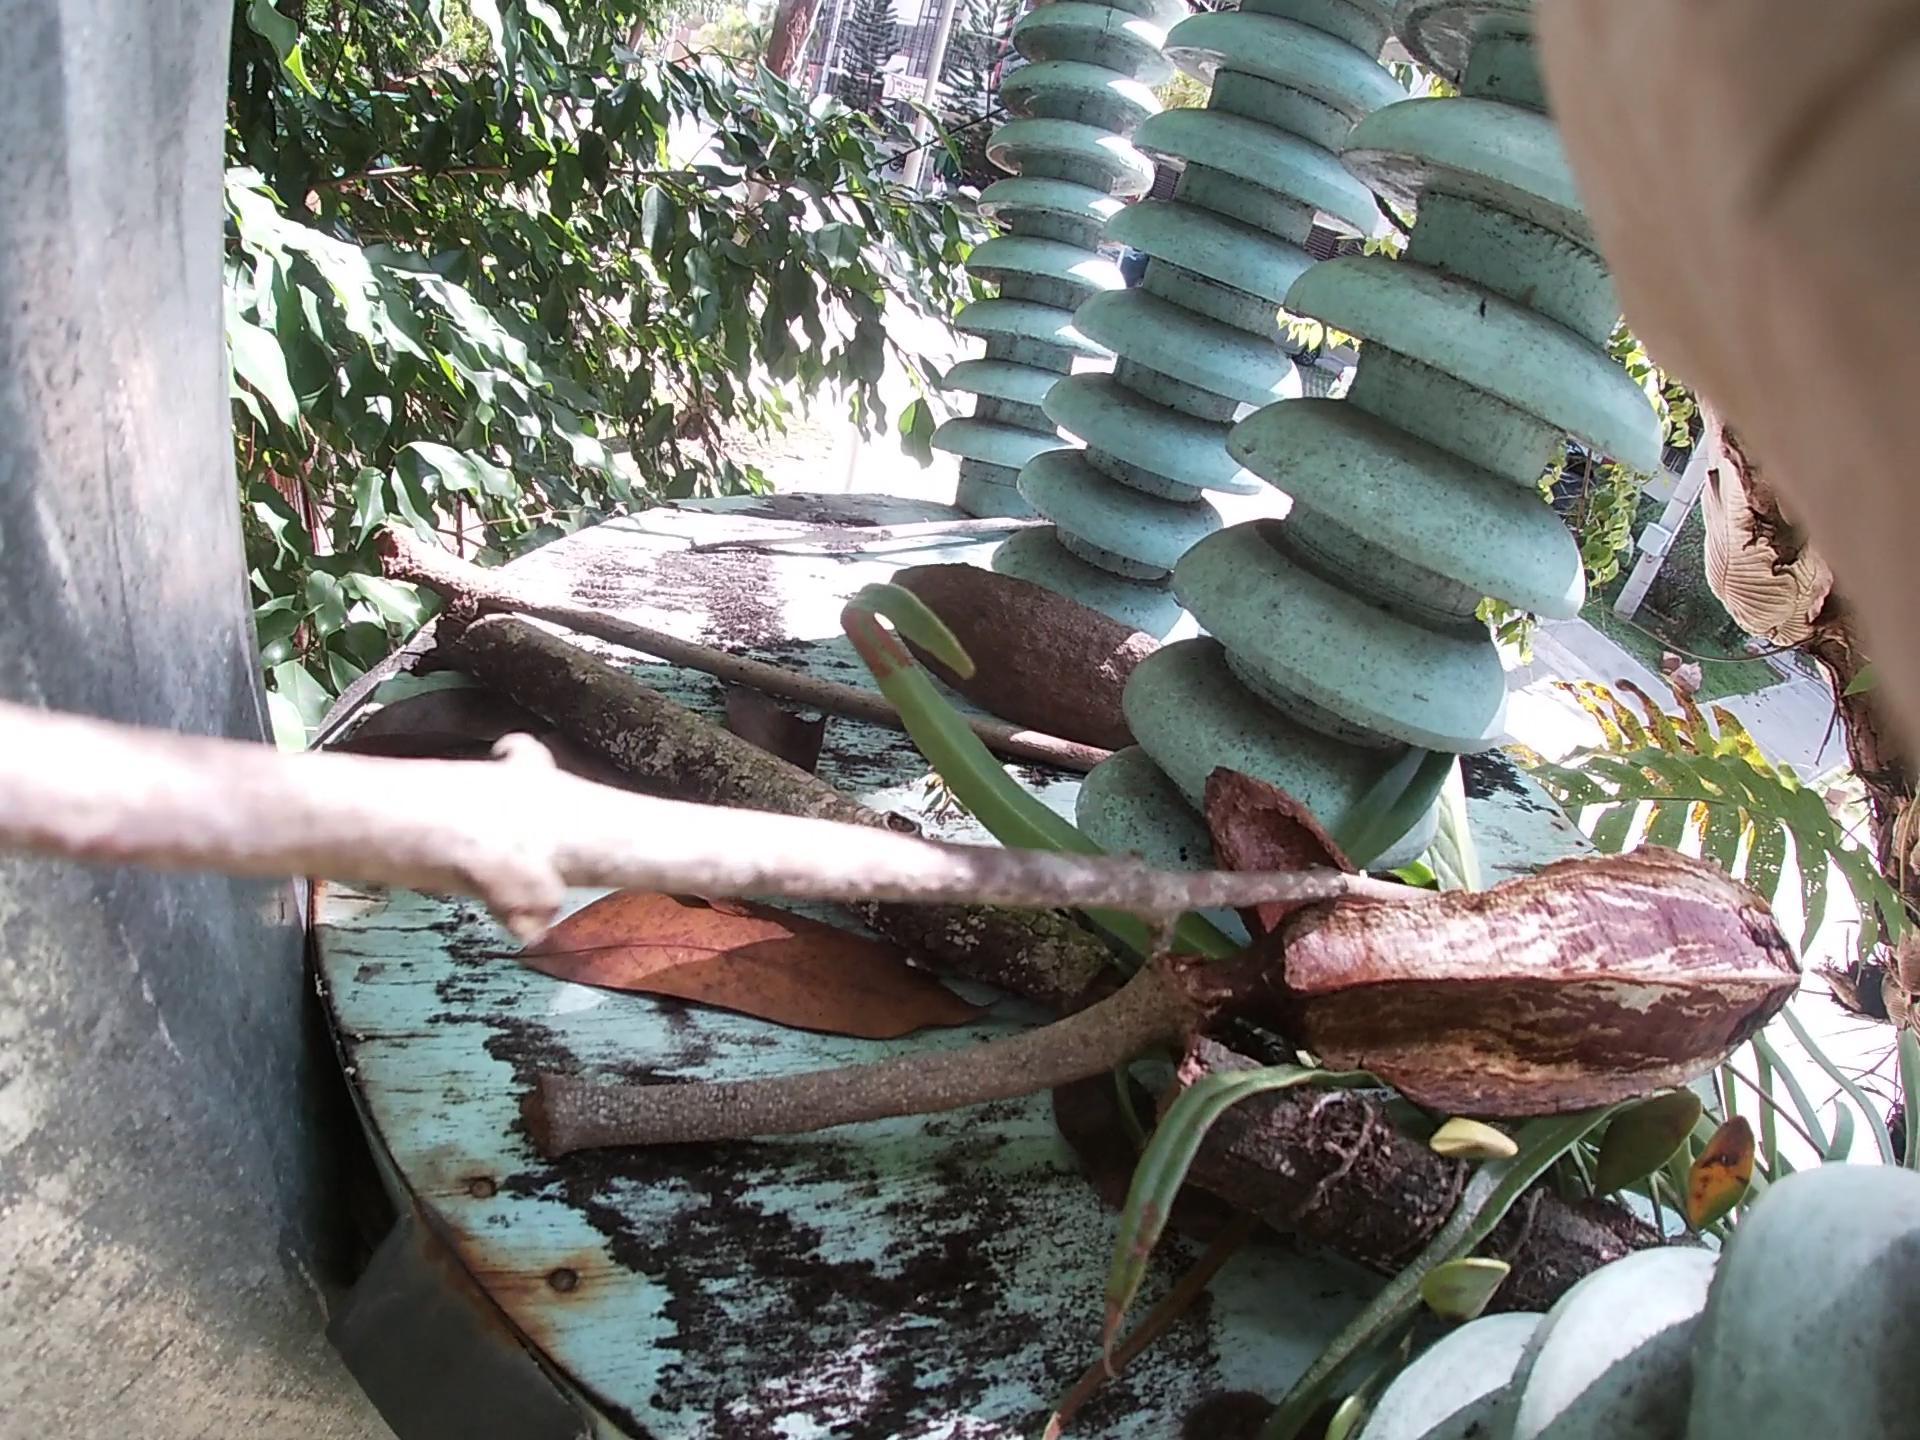branch with leaves: (509, 631, 1494, 1234)
leaf: (624, 882, 853, 1072)
mahogany fruit: (1294, 892, 1878, 1125), (1190, 759, 1569, 1047), (877, 529, 1228, 694)
tree branch: (363, 507, 1081, 781), (32, 746, 1412, 886), (482, 722, 948, 1106), (588, 923, 1349, 1131), (708, 504, 1073, 549)
